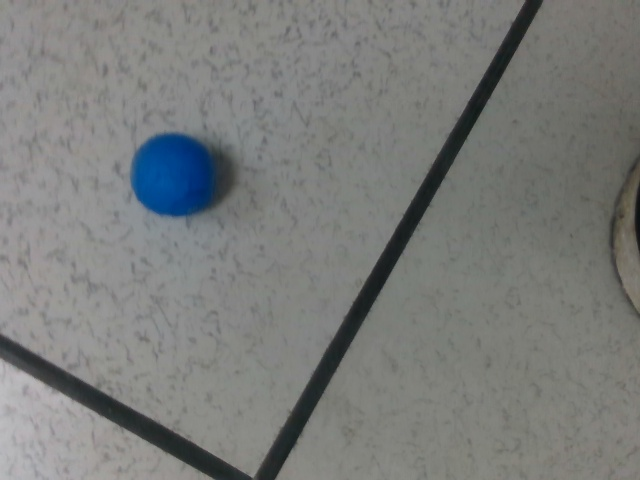blueball: (125, 127, 217, 219)
